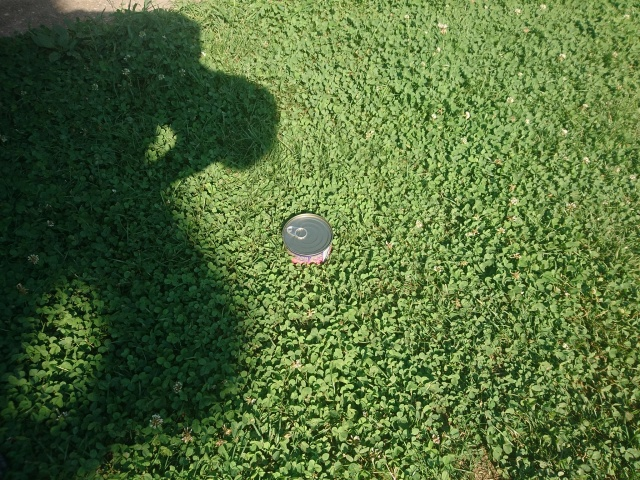Giana Tuna Salad Mexico 185g: (278, 209, 335, 271)
